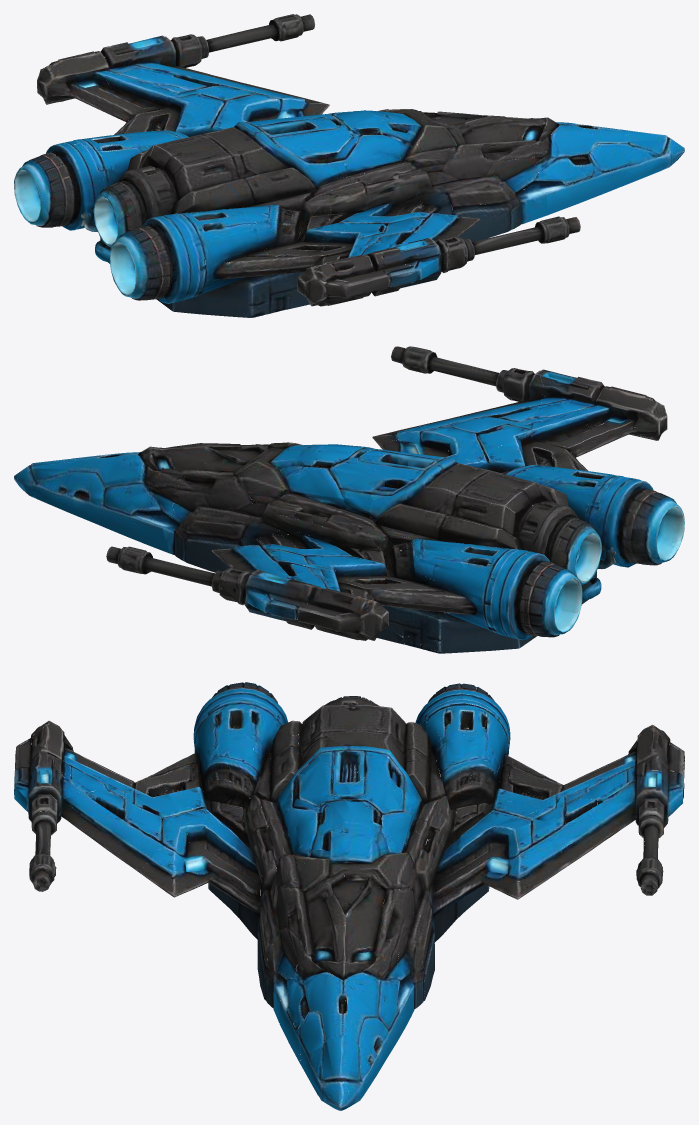
The model's file is raptor_v2.glb.
3 views of the same model, one above another, from view 1: azimuth 30°, elevation 25°; view 2: azimuth 150°, elevation 25°; view 3: azimuth 270°, elevation 25° (orthographic). The views are drawn at different scales.
Parts seen in each view (by area): view 1: tripo_node_dd958d22-ce88-4b63-83ac-6bb4bc578260; view 2: tripo_node_dd958d22-ce88-4b63-83ac-6bb4bc578260; view 3: tripo_node_dd958d22-ce88-4b63-83ac-6bb4bc578260.
Part boxes in pixels (left/top/right/bottom): tripo_node_dd958d22-ce88-4b63-83ac-6bb4bc578260: left=14, top=14, right=684, bottom=317; tripo_node_dd958d22-ce88-4b63-83ac-6bb4bc578260: left=14, top=346, right=684, bottom=653; tripo_node_dd958d22-ce88-4b63-83ac-6bb4bc578260: left=14, top=682, right=684, bottom=1110.
Bounding box in the file's own units: 2 × 0.3898 × 1.73.
Materials: 1 (1 with a texture image).
